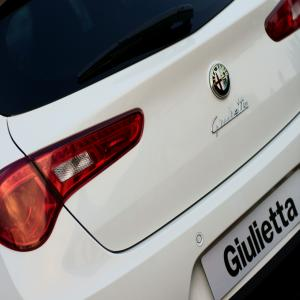Vehicle-registration-plate: (201, 168, 300, 300)
